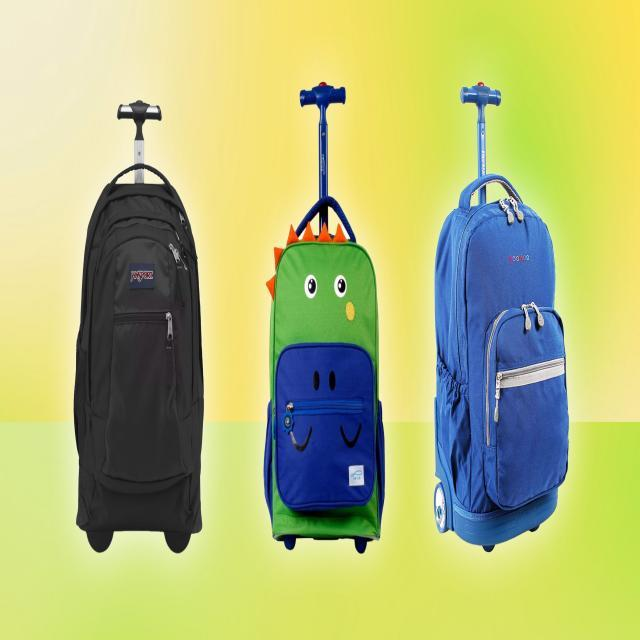Backpacks: (430, 170, 572, 556), (74, 162, 204, 558), (264, 219, 384, 553)
